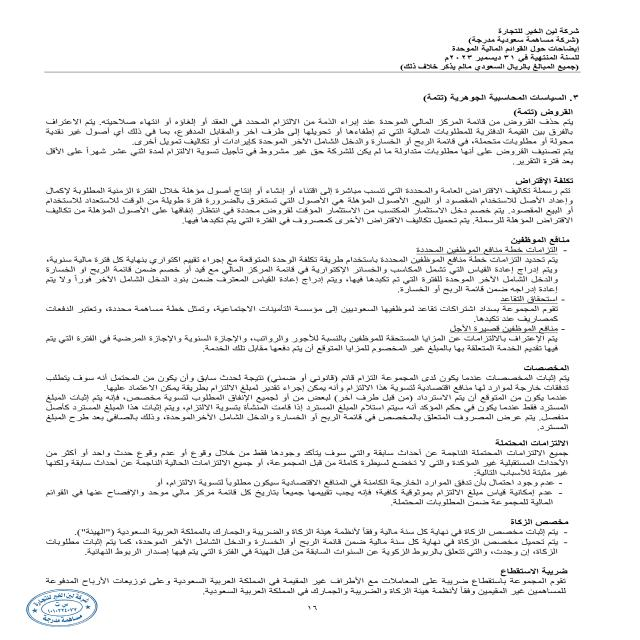notes: (439, 44, 584, 54)
text: (23, 84, 596, 607)
